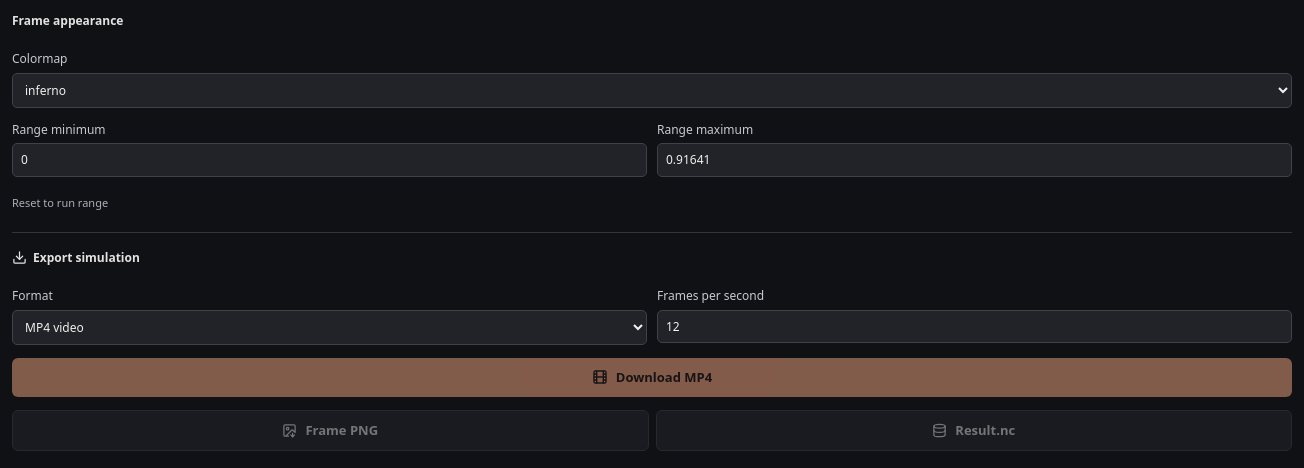
Test: preserves the exact untouched range endpoint and the precision of typed edits
Expected: the number field labelled "Range maximum" holds "0.91641", [657,143,1292,177]
Replace the text in the number field labelled "Range minimum" with "0.123456789" at [330, 160], box [12,143,647,177]
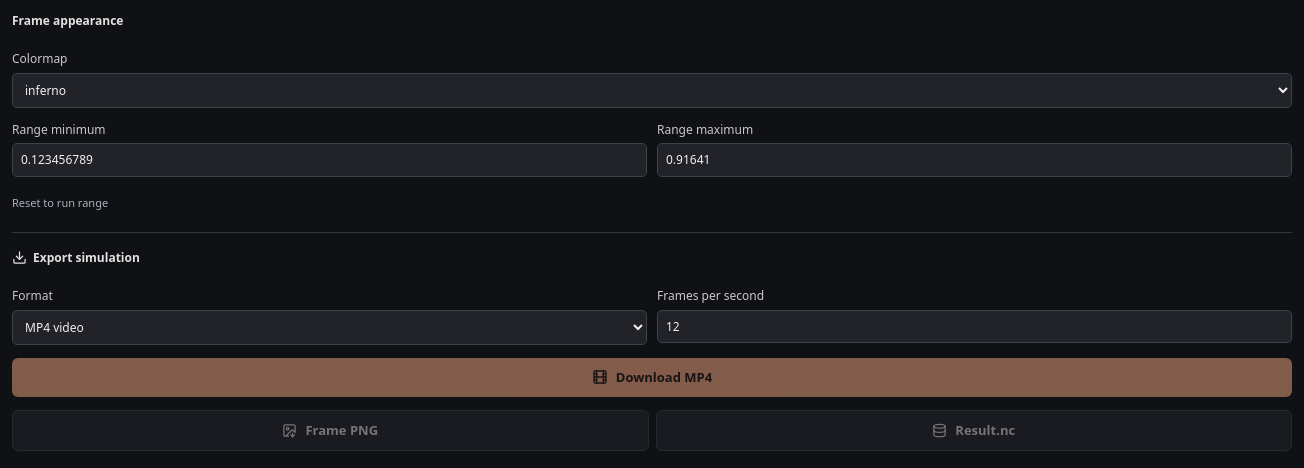
Leave the number field labelled "Range minimum", box [12,143,647,177]
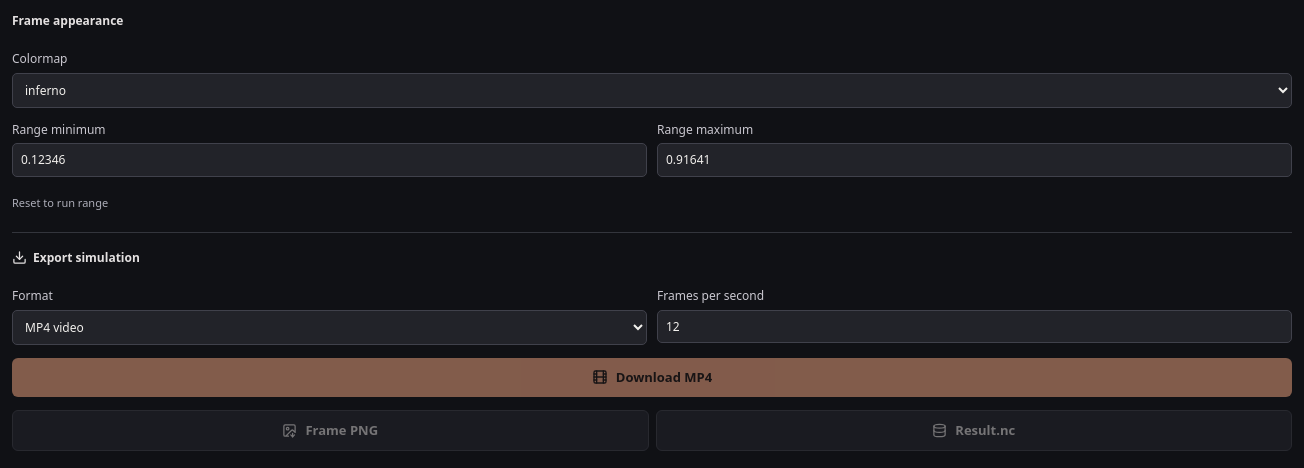
Expected: the number field labelled "Range minimum" holds "0.12346", [12,143,647,177]
